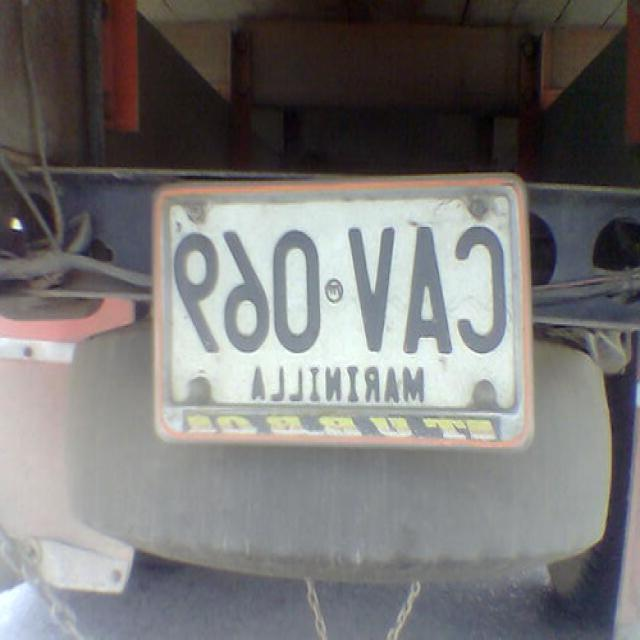placas: (167, 222, 515, 359)
